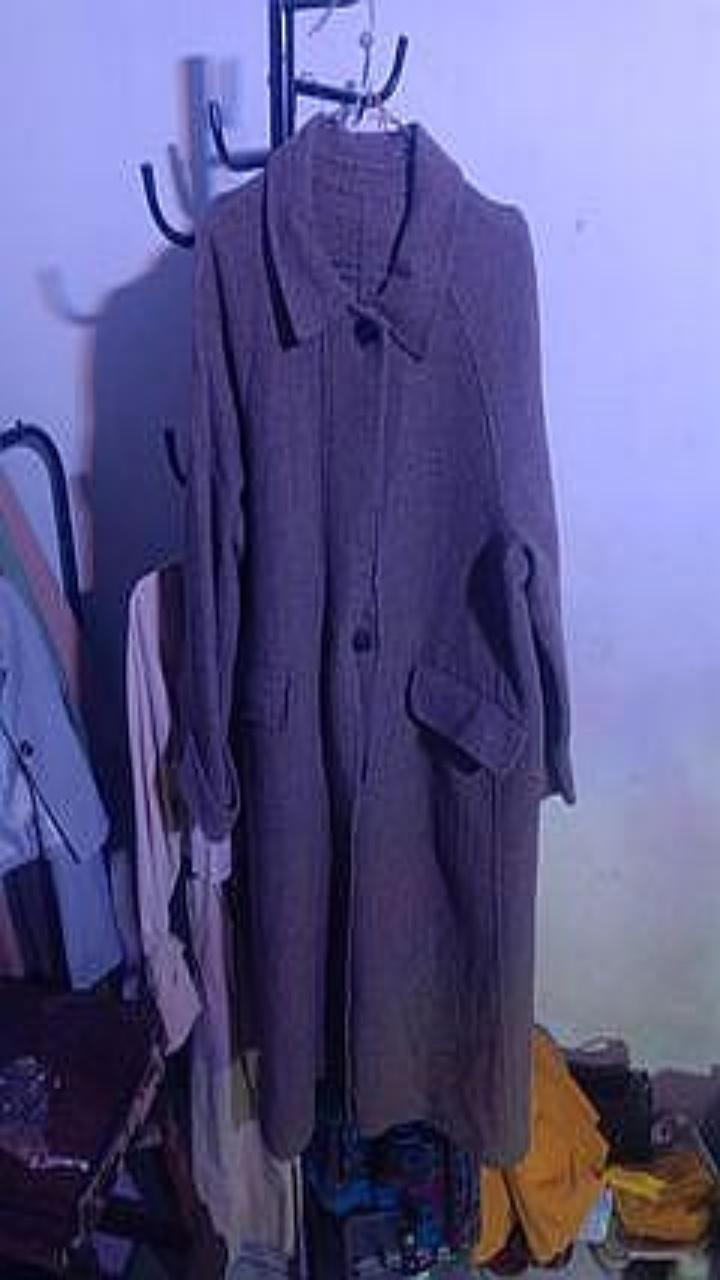Coat: (181, 117, 572, 1163)
